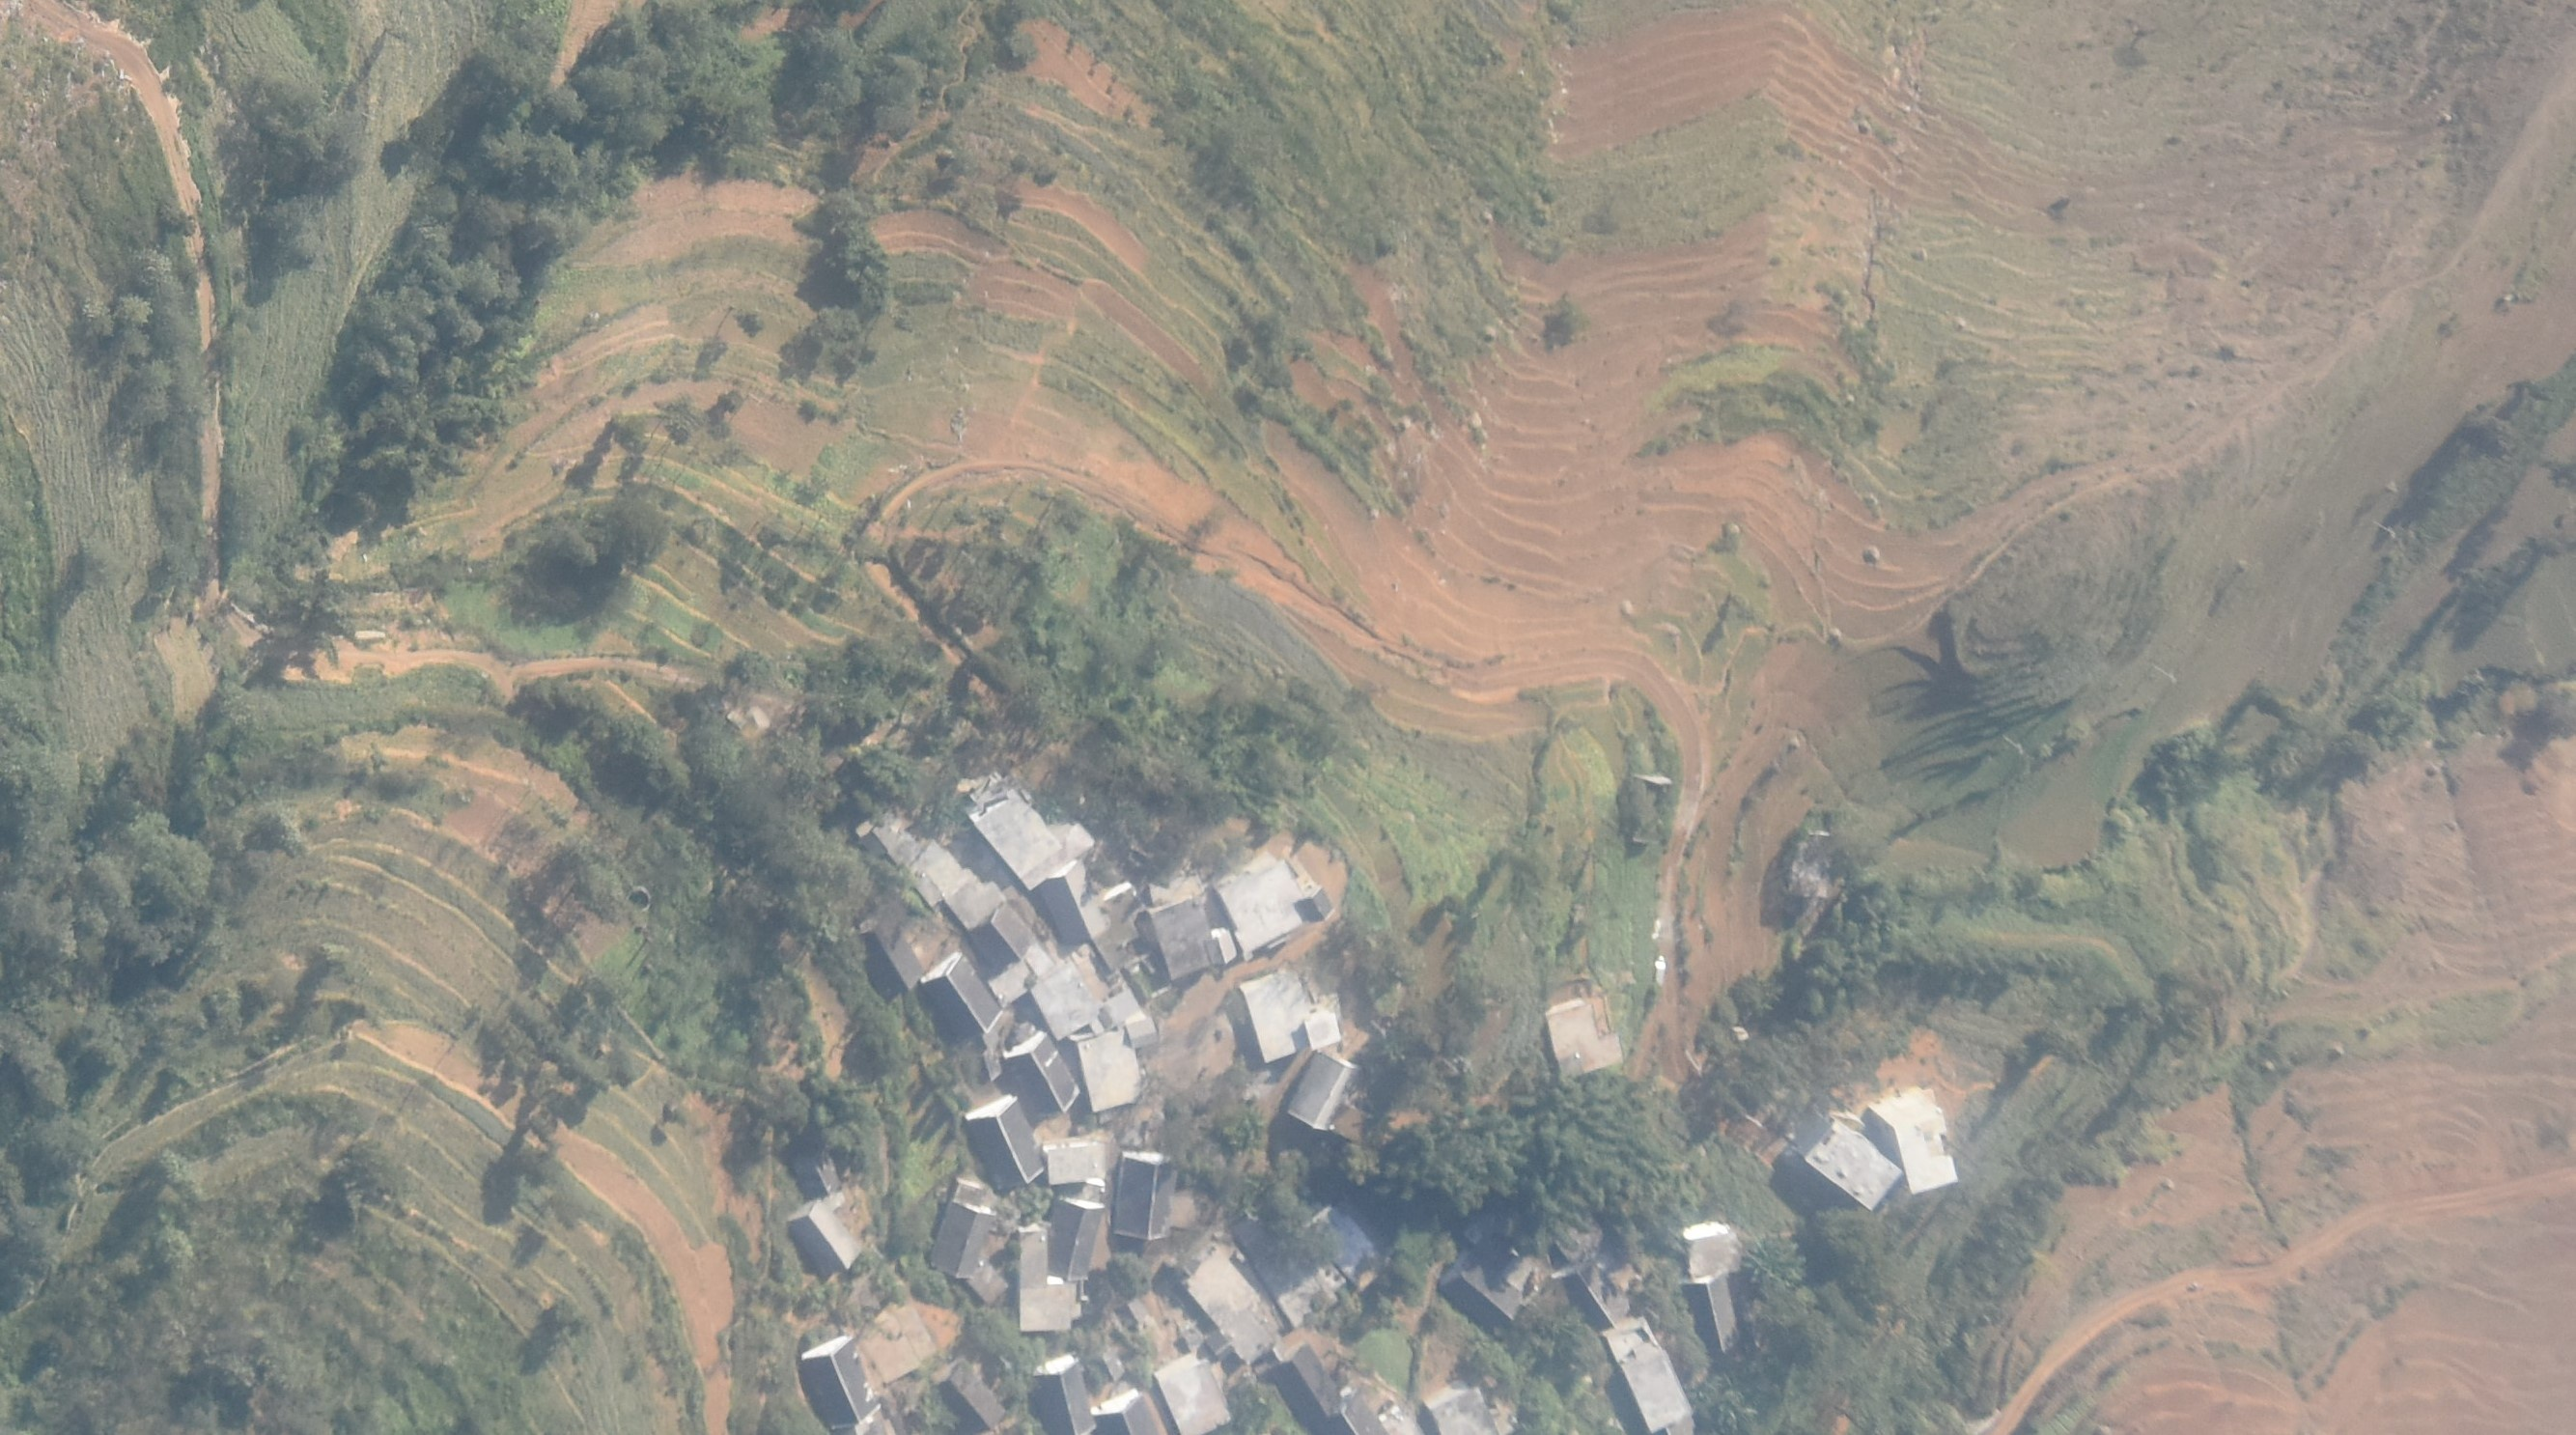building: (1231, 1206, 1347, 1335), (967, 789, 1097, 891), (1183, 1251, 1286, 1363), (1218, 858, 1333, 954), (1239, 965, 1341, 1065), (1603, 1321, 1694, 1433), (1802, 1120, 1903, 1214), (907, 840, 1008, 930), (1867, 1099, 1958, 1196), (1299, 1205, 1390, 1294), (963, 1099, 1049, 1191), (1147, 896, 1236, 982), (921, 952, 1004, 1042), (803, 1336, 881, 1430), (1438, 1251, 1520, 1332), (1152, 1352, 1231, 1434), (931, 1182, 995, 1279), (1006, 1033, 1081, 1114), (1286, 1051, 1362, 1130), (1544, 1003, 1624, 1079), (1270, 1342, 1341, 1426), (857, 912, 923, 1002), (1019, 1228, 1071, 1332), (1078, 1029, 1142, 1112), (1046, 858, 1106, 945), (1029, 961, 1096, 1040), (787, 1199, 860, 1271), (1114, 1154, 1176, 1238), (1682, 1273, 1743, 1354), (1050, 1197, 1106, 1280), (1033, 1361, 1095, 1432), (1554, 1262, 1619, 1328), (945, 1359, 1006, 1427), (1424, 1383, 1497, 1433), (1684, 1222, 1734, 1278), (1790, 830, 1830, 898), (792, 1142, 840, 1196), (1045, 1143, 1105, 1187), (1635, 774, 1671, 844), (993, 901, 1031, 961), (857, 824, 896, 860)
